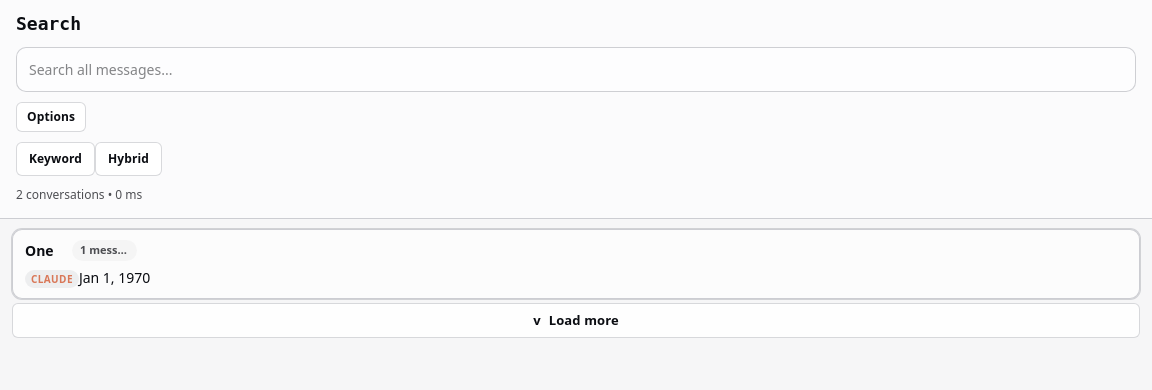
it: SearchPage › loads more in browse mode when no query
expect the text "One" is shown: met, box [25,240,54,261]
// click load more
Click the button "v Load more". click: (576, 320)
box: [12,303,1140,338]
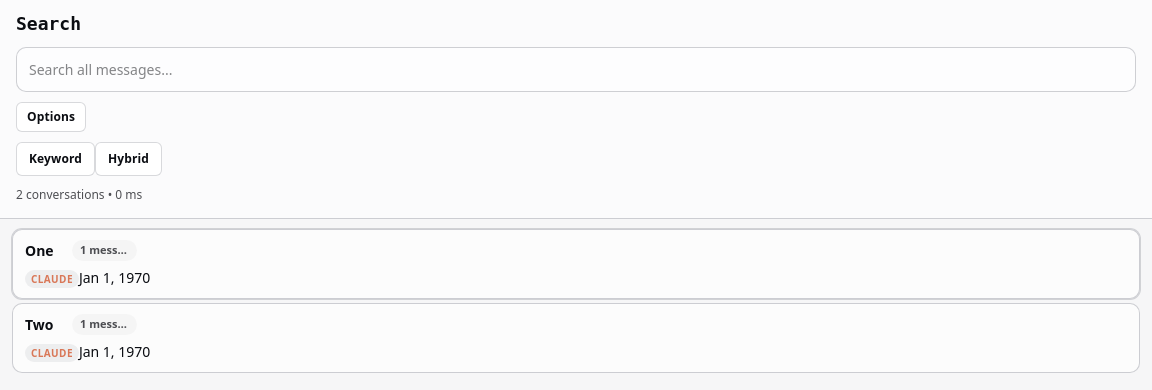
expect the text "Two" is shown: met, box [25,314,54,335]
